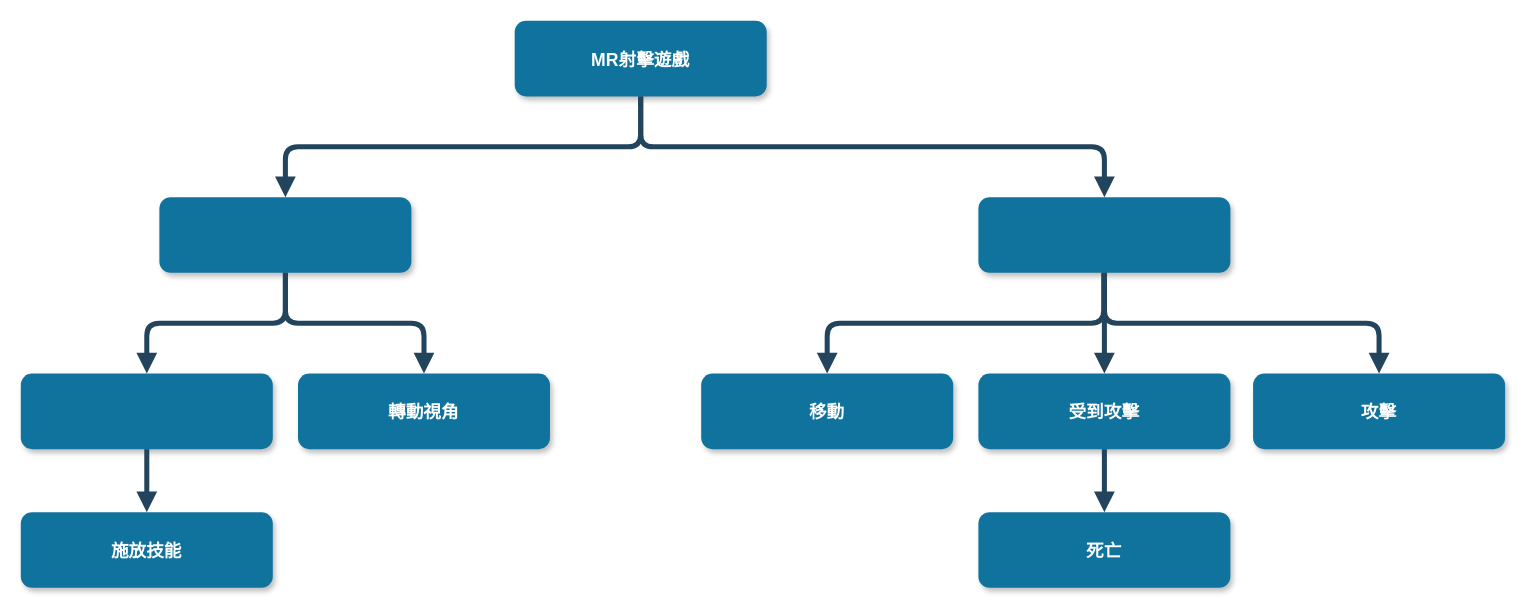
Some shapes in this 1526 by 609 pixel diagram are drawn without their labels. The centre of each missing label's shape, as x and y in pixels:
"手部辨識" goes at [286,236].
"敵人" goes at [1105,236].
"選擇技能" goes at [147,412].
